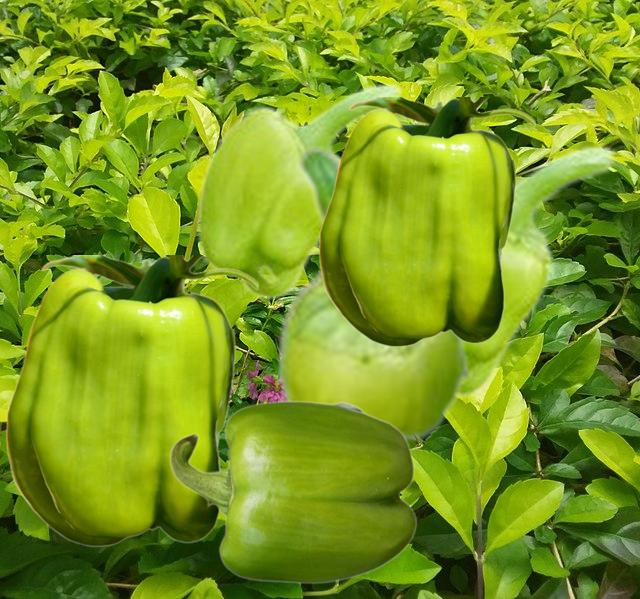bell_pepper: (5, 255, 258, 546), (275, 146, 469, 448), (318, 97, 535, 346), (195, 81, 403, 300), (169, 400, 416, 583), (460, 143, 616, 398)
